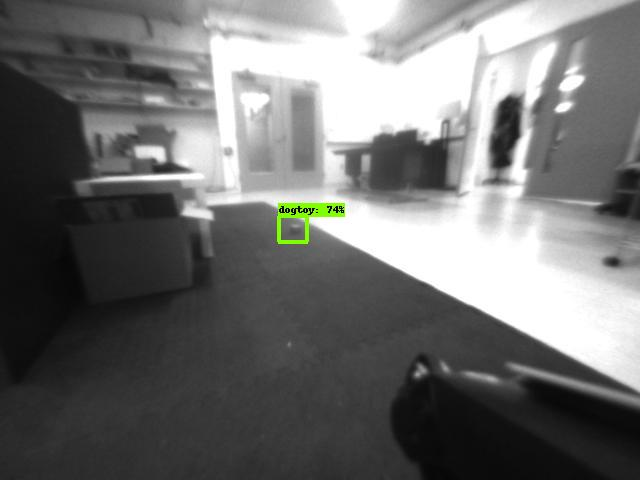dogtoy: (276, 216, 308, 240)
